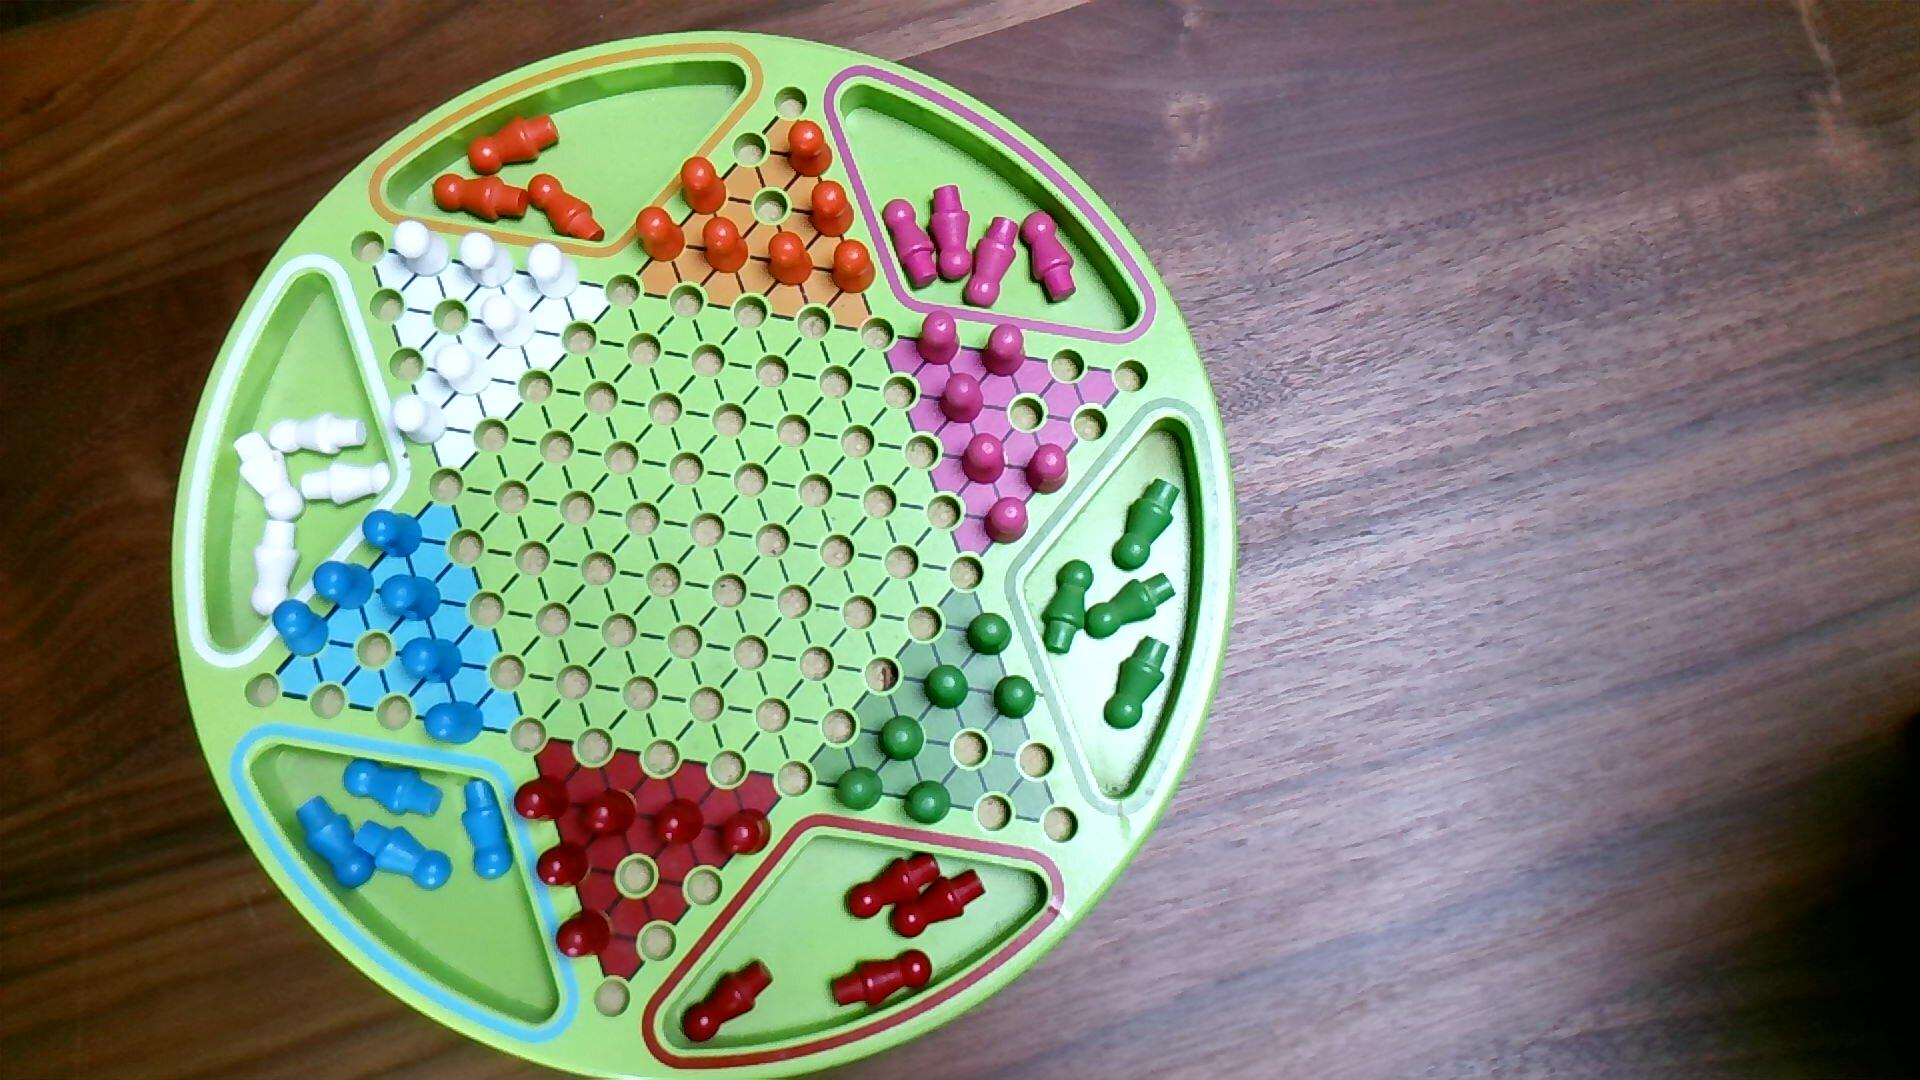B: (272, 597, 331, 659), (313, 559, 377, 613)
G: (876, 713, 928, 764), (832, 766, 885, 814), (902, 779, 953, 827), (922, 665, 971, 713), (992, 674, 1039, 723), (965, 612, 1014, 659)
O: (806, 178, 858, 241), (634, 204, 688, 265), (678, 156, 731, 218), (785, 117, 836, 179), (702, 215, 752, 277), (766, 229, 816, 289), (829, 237, 880, 295)
R: (361, 506, 425, 560), (554, 906, 615, 960), (378, 574, 443, 624), (578, 787, 640, 839), (649, 796, 707, 851), (512, 774, 574, 824), (717, 806, 774, 858), (535, 840, 593, 890)
R2: (913, 309, 963, 367), (978, 322, 1029, 378), (936, 371, 986, 426), (959, 431, 1007, 488), (981, 495, 1033, 547), (1023, 440, 1071, 497)
W: (458, 229, 518, 291), (433, 342, 497, 400), (479, 293, 539, 352), (392, 219, 451, 280), (526, 241, 582, 303), (392, 393, 450, 448)
